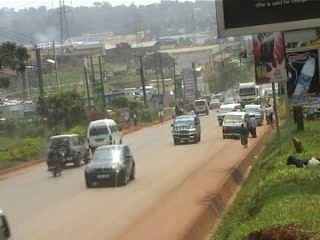Car: (84, 143, 137, 192), (41, 129, 90, 167), (207, 96, 221, 111)
Motorcycle: (43, 143, 66, 179)
